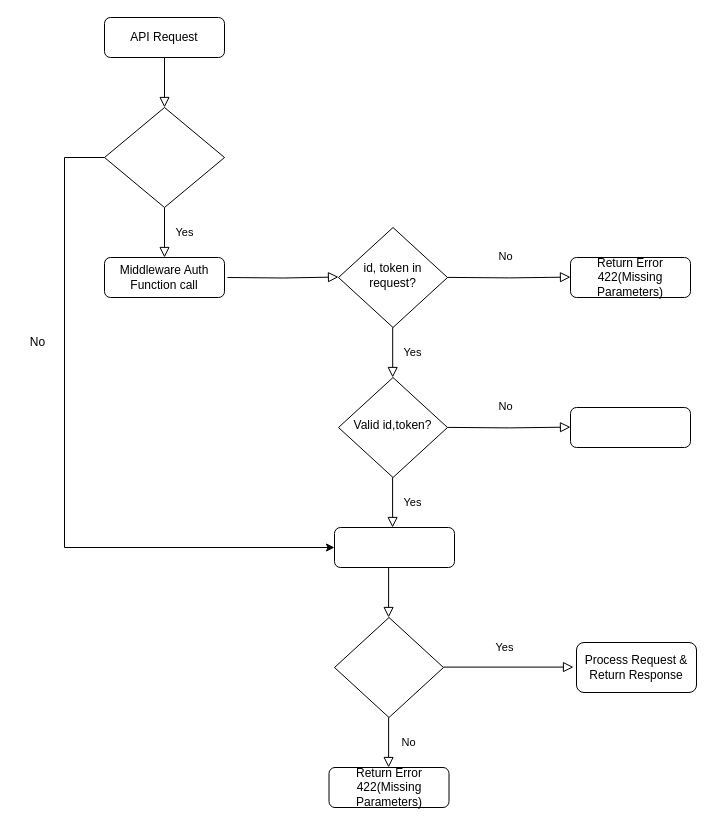
The diagram is 714 pixels wide and 826 high, and some of its shapes have lost their labels. The shapes that lost their labels are listed below. From the top down, each one's centre as x and y in pixels, then its label:
At point 164,157: "Require Middleware Auth?".
At point 630,427: "Return Error 403".
At point 394,547: "Call Required Function".
At point 389,667: "Required Parameters Present?".
